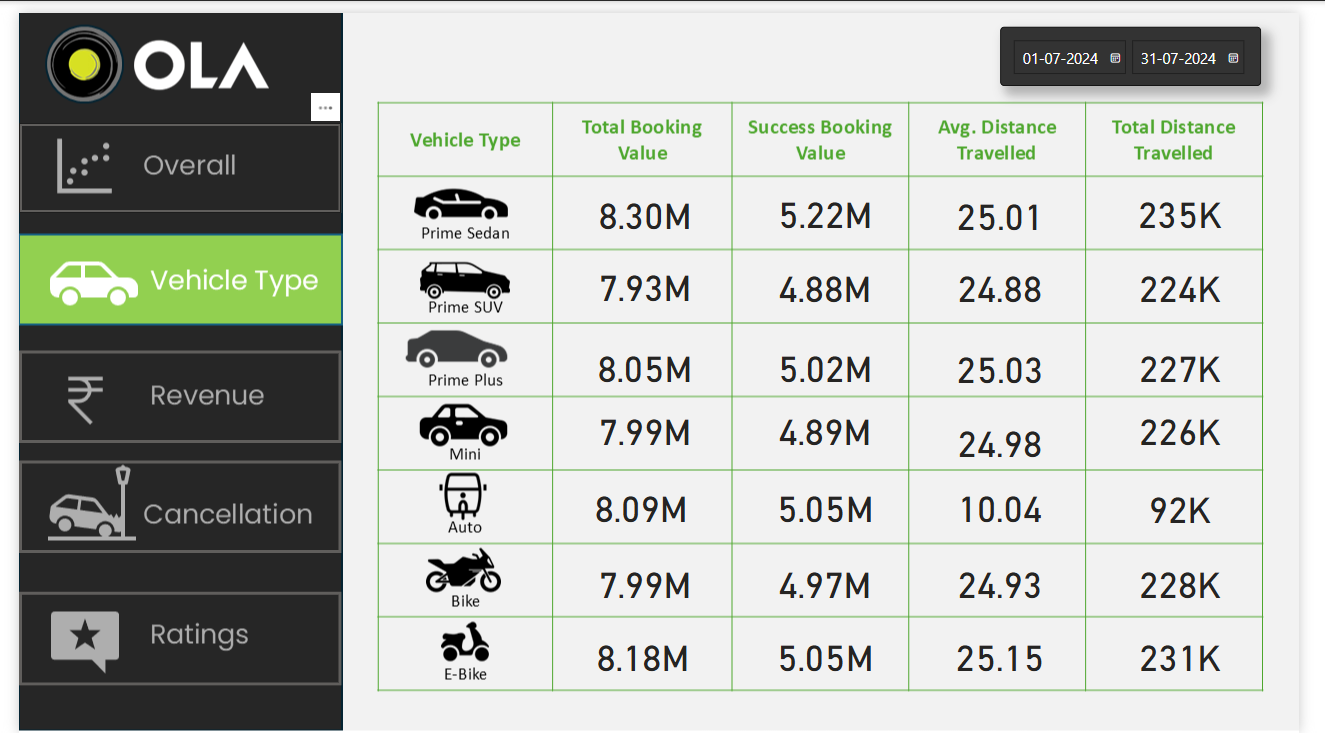

This screenshot's page, from the dashboard's own definition file:
{"tool":"powerbi","page":{"name":"Vehicle Type","canvas":[1280,720],"ordinal":1},"visuals":[{"type":"actionButton","box":[0,337.5,322.5,92.5],"z":0},{"type":"actionButton","box":[0,447.5,322.5,92.5],"z":1000},{"type":"actionButton","box":[0,578.8,322.5,93.8],"z":2000},{"type":"actionButton","box":[0,110,322.5,90],"z":3000},{"type":"card","fields":{"Values":["Sum(July.Booking_Value)"]},"box":[544.8,169.3,162,62.6],"z":4000},{"type":"card","fields":{"Values":["Sum(July.Booking_Value)"]},"box":[544.8,241.5,161.9,61.7],"z":5000},{"type":"card","fields":{"Values":["Sum(July.Booking_Value)"]},"box":[544.8,322.5,161.9,61.7],"z":6000},{"type":"card","fields":{"Values":["Sum(July.Booking_Value)"]},"box":[544.8,385.6,161.9,61.7],"z":7000},{"type":"card","fields":{"Values":["Sum(July.Booking_Value)"]},"box":[540.7,462.4,161.9,61.7],"z":8000},{"type":"card","fields":{"Values":["Sum(July.Booking_Value)"]},"box":[544.8,539.3,161.9,61.7],"z":9000},{"type":"card","fields":{"Values":["Sum(July.Booking_Value)"]},"box":[544.8,610.6,157.8,61.7],"z":10000},{"type":"card","fields":{"Values":["Sum(July.Booking_Value)"]},"box":[724.5,168.8,161.9,61.7],"z":11000},{"type":"card","fields":{"Values":["Sum(July.Booking_Value)"]},"box":[724.5,242.9,161.9,61.7],"z":12000},{"type":"card","fields":{"Values":["Sum(July.Booking_Value)"]},"box":[724.5,322.5,161.9,61.7],"z":13000},{"type":"card","fields":{"Values":["Sum(July.Booking_Value)"]},"box":[724.5,385.6,161.9,61.7],"z":14000},{"type":"card","fields":{"Values":["Sum(July.Booking_Value)"]},"box":[724.5,462.4,161.9,61.7],"z":15000},{"type":"card","fields":{"Values":["Sum(July.Booking_Value)"]},"box":[724.5,539.3,161.9,61.7],"z":16000},{"type":"card","fields":{"Values":["Sum(July.Booking_Value)"]},"box":[724.5,610.6,161.9,61.7],"z":17000},{"type":"card","fields":{"Values":["Avg(July.Ride_Distance)"]},"box":[900.2,170.2,161.9,61.7],"z":18000},{"type":"card","fields":{"Values":["Avg(July.Ride_Distance)"]},"box":[900.2,242.9,161.9,61.7],"z":19000},{"type":"card","fields":{"Values":["Avg(July.Ride_Distance)"]},"box":[900.2,323.8,161.9,61.7],"z":20000},{"type":"card","fields":{"Values":["Avg(July.Ride_Distance)"]},"box":[900.2,397.9,161.9,61.7],"z":21000},{"type":"card","fields":{"Values":["Avg(July.Ride_Distance)"]},"box":[900.2,462.4,161.9,61.7],"z":22000},{"type":"card","fields":{"Values":["Avg(July.Ride_Distance)"]},"box":[900.2,539.3,161.9,61.7],"z":23000},{"type":"card","fields":{"Values":["Avg(July.Ride_Distance)"]},"box":[900.2,610.6,161.9,61.7],"z":24000},{"type":"card","fields":{"Values":["Sum(July.Ride_Distance)"]},"box":[1079.9,168.8,161.9,61.7],"z":25000},{"type":"card","fields":{"Values":["Sum(July.Ride_Distance)"]},"box":[1079.9,242.9,161.9,61.7],"z":26000},{"type":"card","fields":{"Values":["Sum(July.Ride_Distance)"]},"box":[1079.9,322.5,161.9,61.7],"z":27000},{"type":"card","fields":{"Values":["Sum(July.Ride_Distance)"]},"box":[1079.9,385.6,161.9,61.7],"z":28000},{"type":"card","fields":{"Values":["Sum(July.Ride_Distance)"]},"box":[1079.9,463.8,161.9,61.7],"z":29000},{"type":"card","fields":{"Values":["Sum(July.Ride_Distance)"]},"box":[1079.9,539.3,161.9,61.7],"z":30000},{"type":"card","fields":{"Values":["Sum(July.Ride_Distance)"]},"box":[1079.9,610.6,161.9,61.7],"z":31000},{"type":"slicer","title":"Date","fields":{"Values":["July.Date"]},"box":[981.1,13.7,260.7,59],"z":32000}]}

Visuals, with their boxes on the page's 1280x720 design canvas (x1, y1, x2, y2). These are canvas units, not pixel positions in the 1325x733 screenshot, which may show the page scaled, cropped or inside an application window:
actionButton: bbox=(0, 338, 322, 430)
actionButton: bbox=(0, 448, 322, 540)
actionButton: bbox=(0, 579, 322, 673)
actionButton: bbox=(0, 110, 322, 200)
card - Sum(July.Booking_Value): bbox=(545, 169, 707, 232)
card - Sum(July.Booking_Value): bbox=(545, 242, 707, 303)
card - Sum(July.Booking_Value): bbox=(545, 322, 707, 384)
card - Sum(July.Booking_Value): bbox=(545, 386, 707, 447)
card - Sum(July.Booking_Value): bbox=(541, 462, 703, 524)
card - Sum(July.Booking_Value): bbox=(545, 539, 707, 601)
card - Sum(July.Booking_Value): bbox=(545, 611, 703, 672)
card - Sum(July.Booking_Value): bbox=(724, 169, 886, 230)
card - Sum(July.Booking_Value): bbox=(724, 243, 886, 305)
card - Sum(July.Booking_Value): bbox=(724, 322, 886, 384)
card - Sum(July.Booking_Value): bbox=(724, 386, 886, 447)
card - Sum(July.Booking_Value): bbox=(724, 462, 886, 524)
card - Sum(July.Booking_Value): bbox=(724, 539, 886, 601)
card - Sum(July.Booking_Value): bbox=(724, 611, 886, 672)
card - Avg(July.Ride_Distance): bbox=(900, 170, 1062, 232)
card - Avg(July.Ride_Distance): bbox=(900, 243, 1062, 305)
card - Avg(July.Ride_Distance): bbox=(900, 324, 1062, 386)
card - Avg(July.Ride_Distance): bbox=(900, 398, 1062, 460)
card - Avg(July.Ride_Distance): bbox=(900, 462, 1062, 524)
card - Avg(July.Ride_Distance): bbox=(900, 539, 1062, 601)
card - Avg(July.Ride_Distance): bbox=(900, 611, 1062, 672)
card - Sum(July.Ride_Distance): bbox=(1080, 169, 1242, 230)
card - Sum(July.Ride_Distance): bbox=(1080, 243, 1242, 305)
card - Sum(July.Ride_Distance): bbox=(1080, 322, 1242, 384)
card - Sum(July.Ride_Distance): bbox=(1080, 386, 1242, 447)
card - Sum(July.Ride_Distance): bbox=(1080, 464, 1242, 526)
card - Sum(July.Ride_Distance): bbox=(1080, 539, 1242, 601)
card - Sum(July.Ride_Distance): bbox=(1080, 611, 1242, 672)
"Date" slicer: bbox=(981, 14, 1242, 73)
